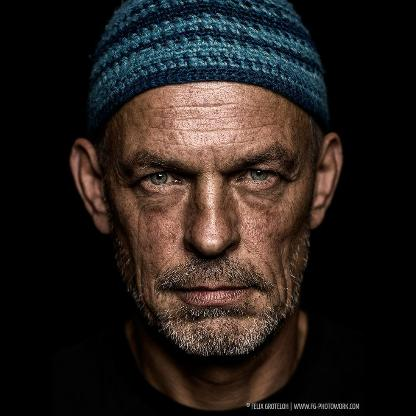Male: (69, 82, 342, 354)
